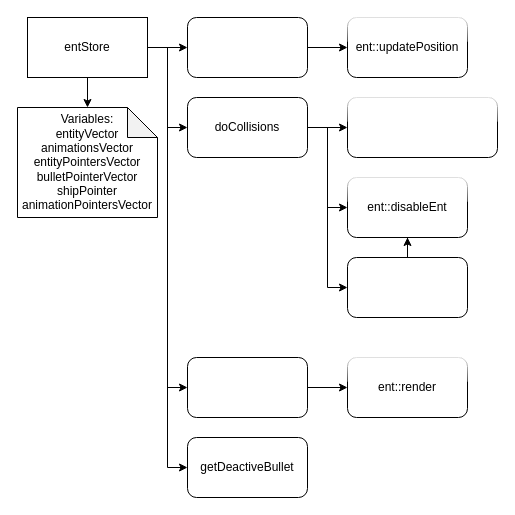
Image size: 515x515. Some labels were removed from this diagram. Each missing label, with the centre of its shape:
"disableAllEnts" goes at point (407, 287).
"drawEntStore" goes at point (247, 387).
"ent::respawnEntOffscrren" goes at point (422, 127).
"updateAllPositions" goes at point (247, 47).
